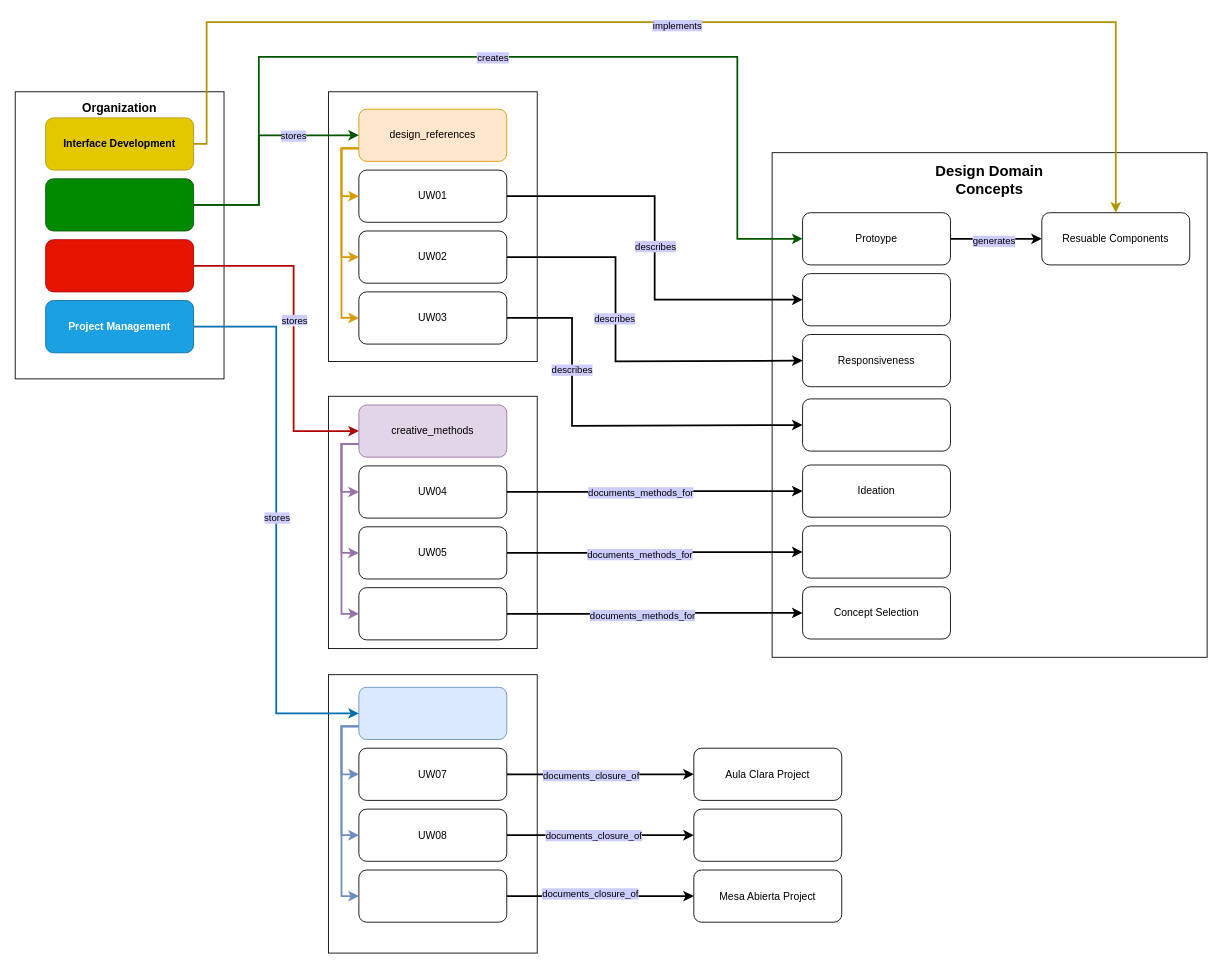
Image size: 1222x968. Some labels were removed from this diagram. Each missing label, with the centre of its shape:
"Creative Direction" belongs at point 119,265.
"Design and UX" belongs at point 119,204.
"Estudio Norte Project" belongs at point 767,834.
"Module Composition" belongs at point 876,424.
"project_learnings" belongs at point 432,713.
"UW06" belongs at point 432,613.
"UW09" belongs at point 432,895.
"Visual Hierarchy" belongs at point 876,299.
"Visual Proposal Evaluation" belongs at point 876,551.
